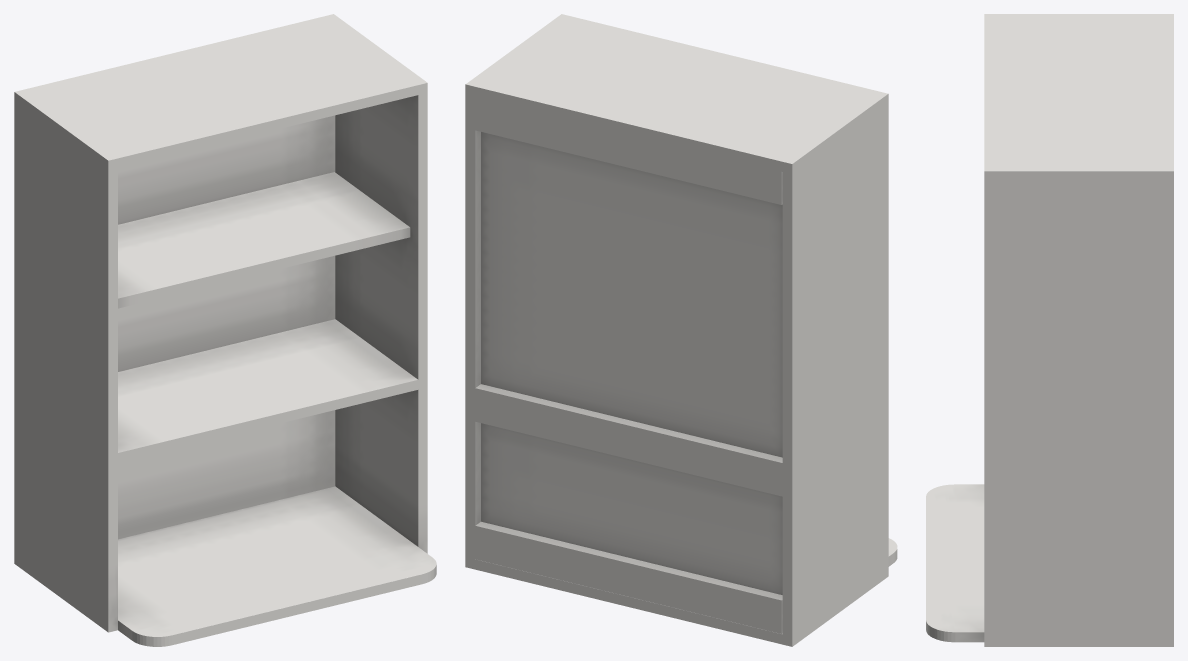
File: wall-microwave-doors-off.glb
3 views of the same model, side by side, from view 1: azimuth 30°, elevation 25°; view 2: azimuth 150°, elevation 25°; view 3: azimuth 270°, elevation 25° (orthographic). The views are drawn at different scales.
Visible parts, largest first — view 1: part_0; view 2: part_0; view 3: part_0.
Boxes of the visible parts, bbox=[...] form: part_0: bbox=[14, 14, 436, 646]; part_0: bbox=[465, 14, 897, 646]; part_0: bbox=[926, 14, 1173, 646].
Size of the model in its own units: 0.6477 by 0.9144 by 0.4318.
1 material, 1 textured.
